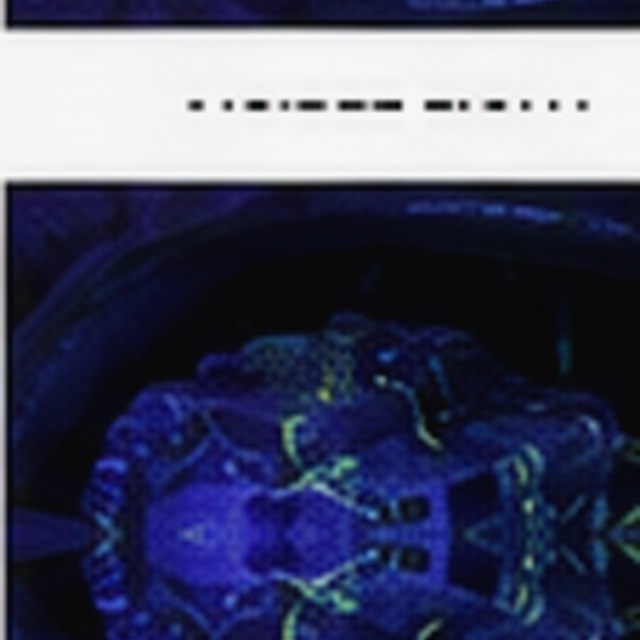hydraulic_oil_leak: (293, 456, 355, 486), (293, 582, 347, 601), (282, 414, 302, 462), (517, 460, 527, 484), (523, 499, 533, 507), (529, 449, 537, 459), (328, 374, 334, 384), (322, 390, 328, 397), (419, 425, 424, 433), (341, 383, 345, 387), (346, 375, 349, 380)
